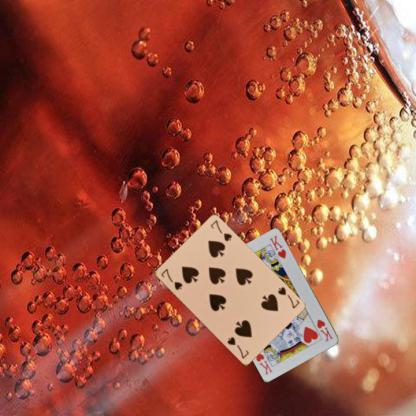7s: (274, 284, 300, 310), (158, 266, 183, 291)
Kh: (314, 317, 334, 343)
